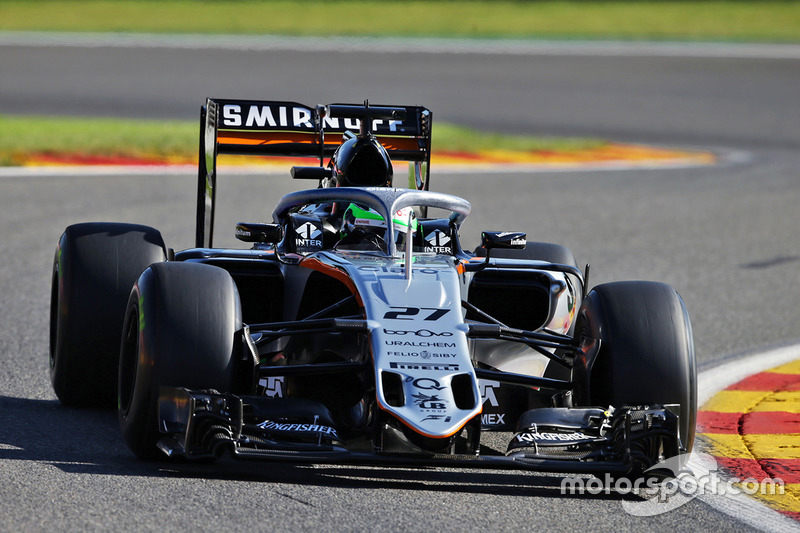F1 Car: (44, 94, 705, 490)
